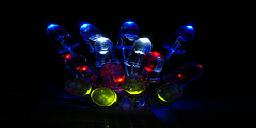LED: (46, 22, 81, 53), (127, 38, 153, 69), (89, 86, 122, 109), (93, 38, 114, 62)
